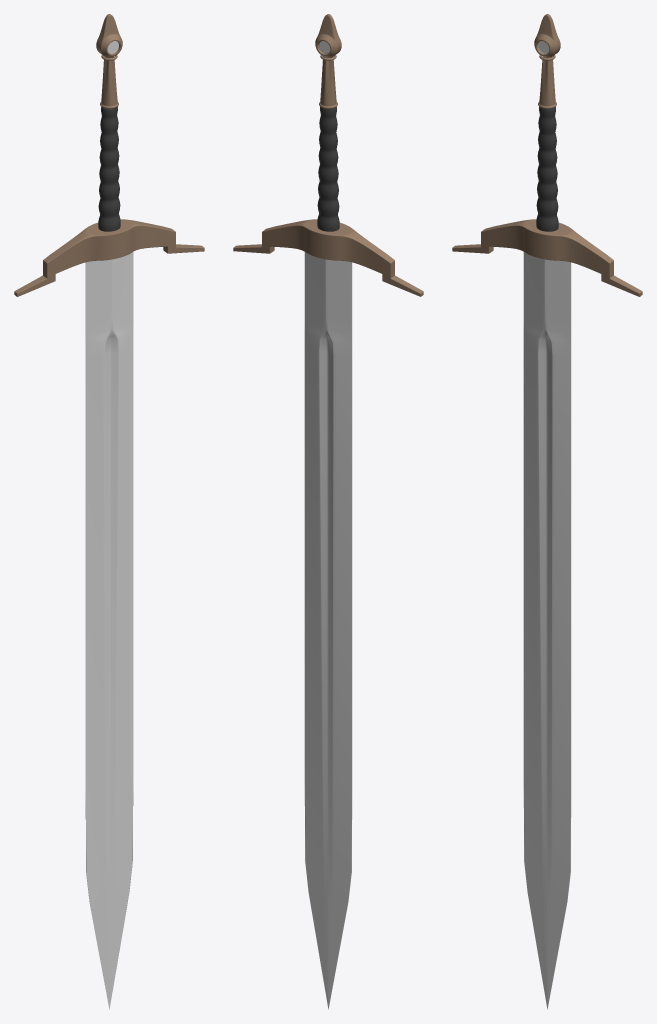
The model's file is swordnocamda.fbx.
The picture shows the model from 3 angles, left to right: view 1: azimuth 30°, elevation 25°; view 2: azimuth 150°, elevation 25°; view 3: azimuth 330°, elevation 25°; orthographic projection.
Parts seen in each view (by area): view 1: Cube, Cylinder, Cylinder.001, Cylinder.003, Cylinder.002; view 2: Cube, Cylinder, Cylinder.001, Cylinder.003, Cylinder.002; view 3: Cube, Cylinder, Cylinder.001, Cylinder.003, Cylinder.002.
Part boxes in pixels (left/top/right/bottom): Cube: left=85, top=252, right=133, bottom=1009; Cylinder: left=14, top=219, right=204, bottom=296; Cylinder.001: left=98, top=107, right=120, bottom=231; Cylinder.003: left=96, top=14, right=122, bottom=57; Cylinder.002: left=100, top=55, right=118, bottom=108; Cube: left=304, top=252, right=352, bottom=1009; Cylinder: left=233, top=219, right=423, bottom=296; Cylinder.001: left=317, top=107, right=339, bottom=231; Cylinder.003: left=315, top=14, right=341, bottom=57; Cylinder.002: left=319, top=55, right=337, bottom=108; Cube: left=523, top=252, right=571, bottom=1009; Cylinder: left=452, top=219, right=642, bottom=296; Cylinder.001: left=536, top=107, right=558, bottom=231; Cylinder.003: left=534, top=14, right=560, bottom=57; Cylinder.002: left=538, top=55, right=556, bottom=108.
Size of the model in its own units: 31.37 by 159 by 4.68.
